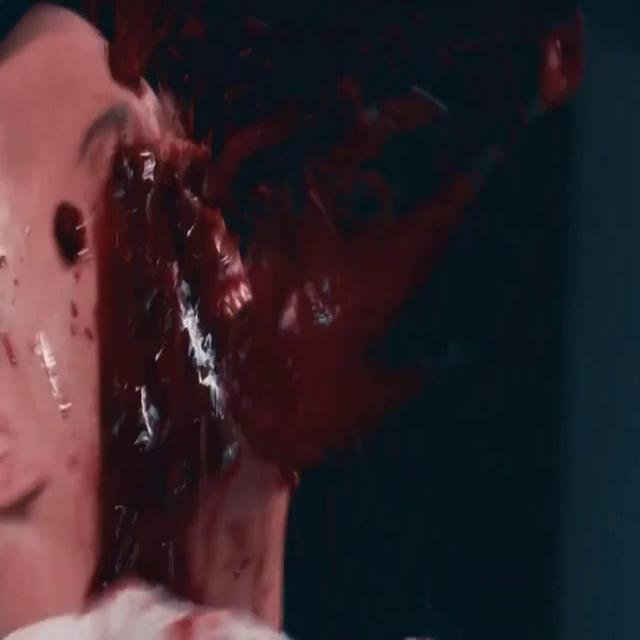flood: (86, 0, 602, 626)
